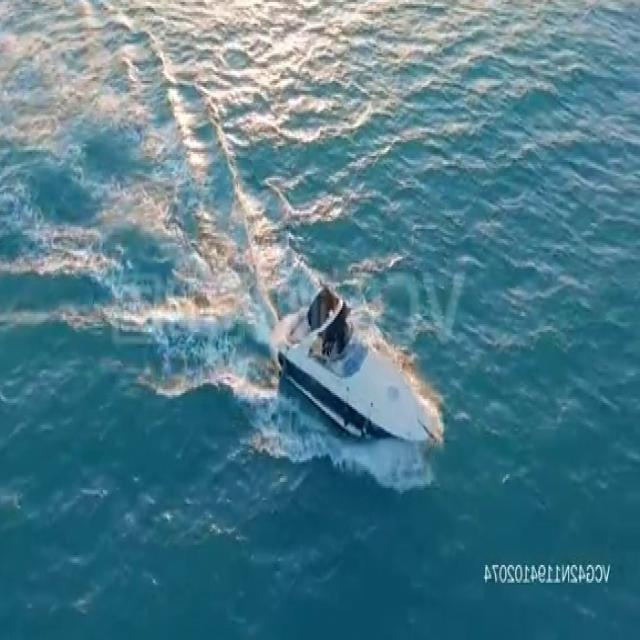houseboat: (277, 272, 450, 454)
